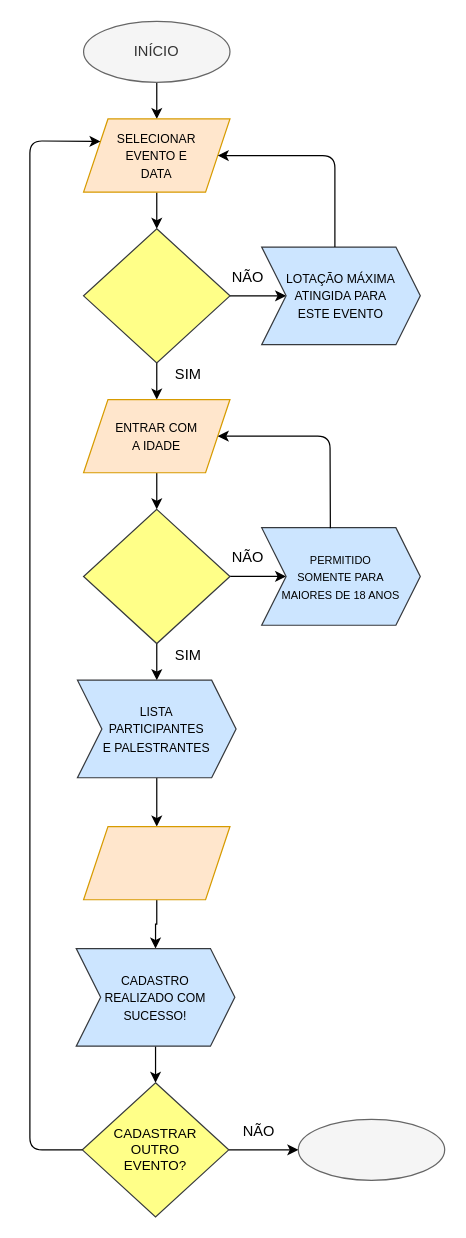
This 466x1238 diagram has some shape labels left out. The centre of each missing label's shape, as x and y in pixels:
"ENTRAR COM DEMAIS DADOS PESSOAIS" belongs at [156,862].
"FIM" belongs at [371,1149].
"IDADE >== 18" belongs at [156,576].
"QUANTIDADE PARTICIPANTES < ==100" belongs at [156,295].
